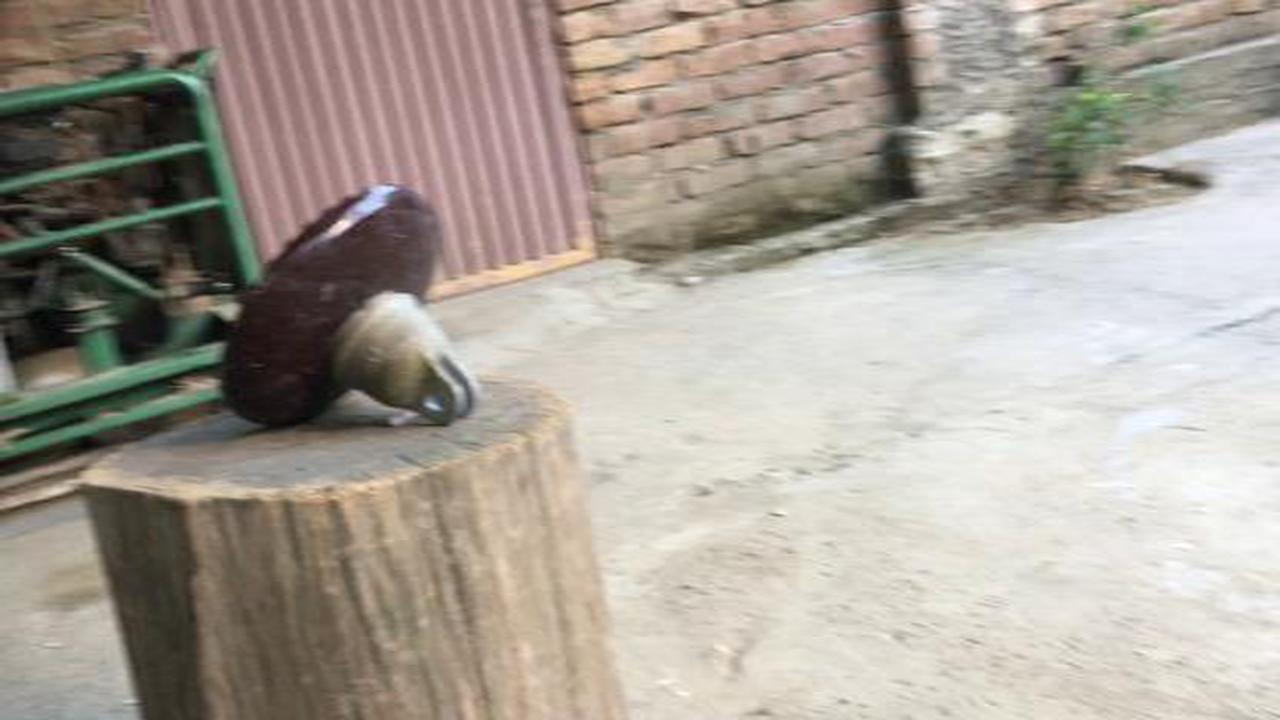insulator_disc: (213, 179, 488, 432)
